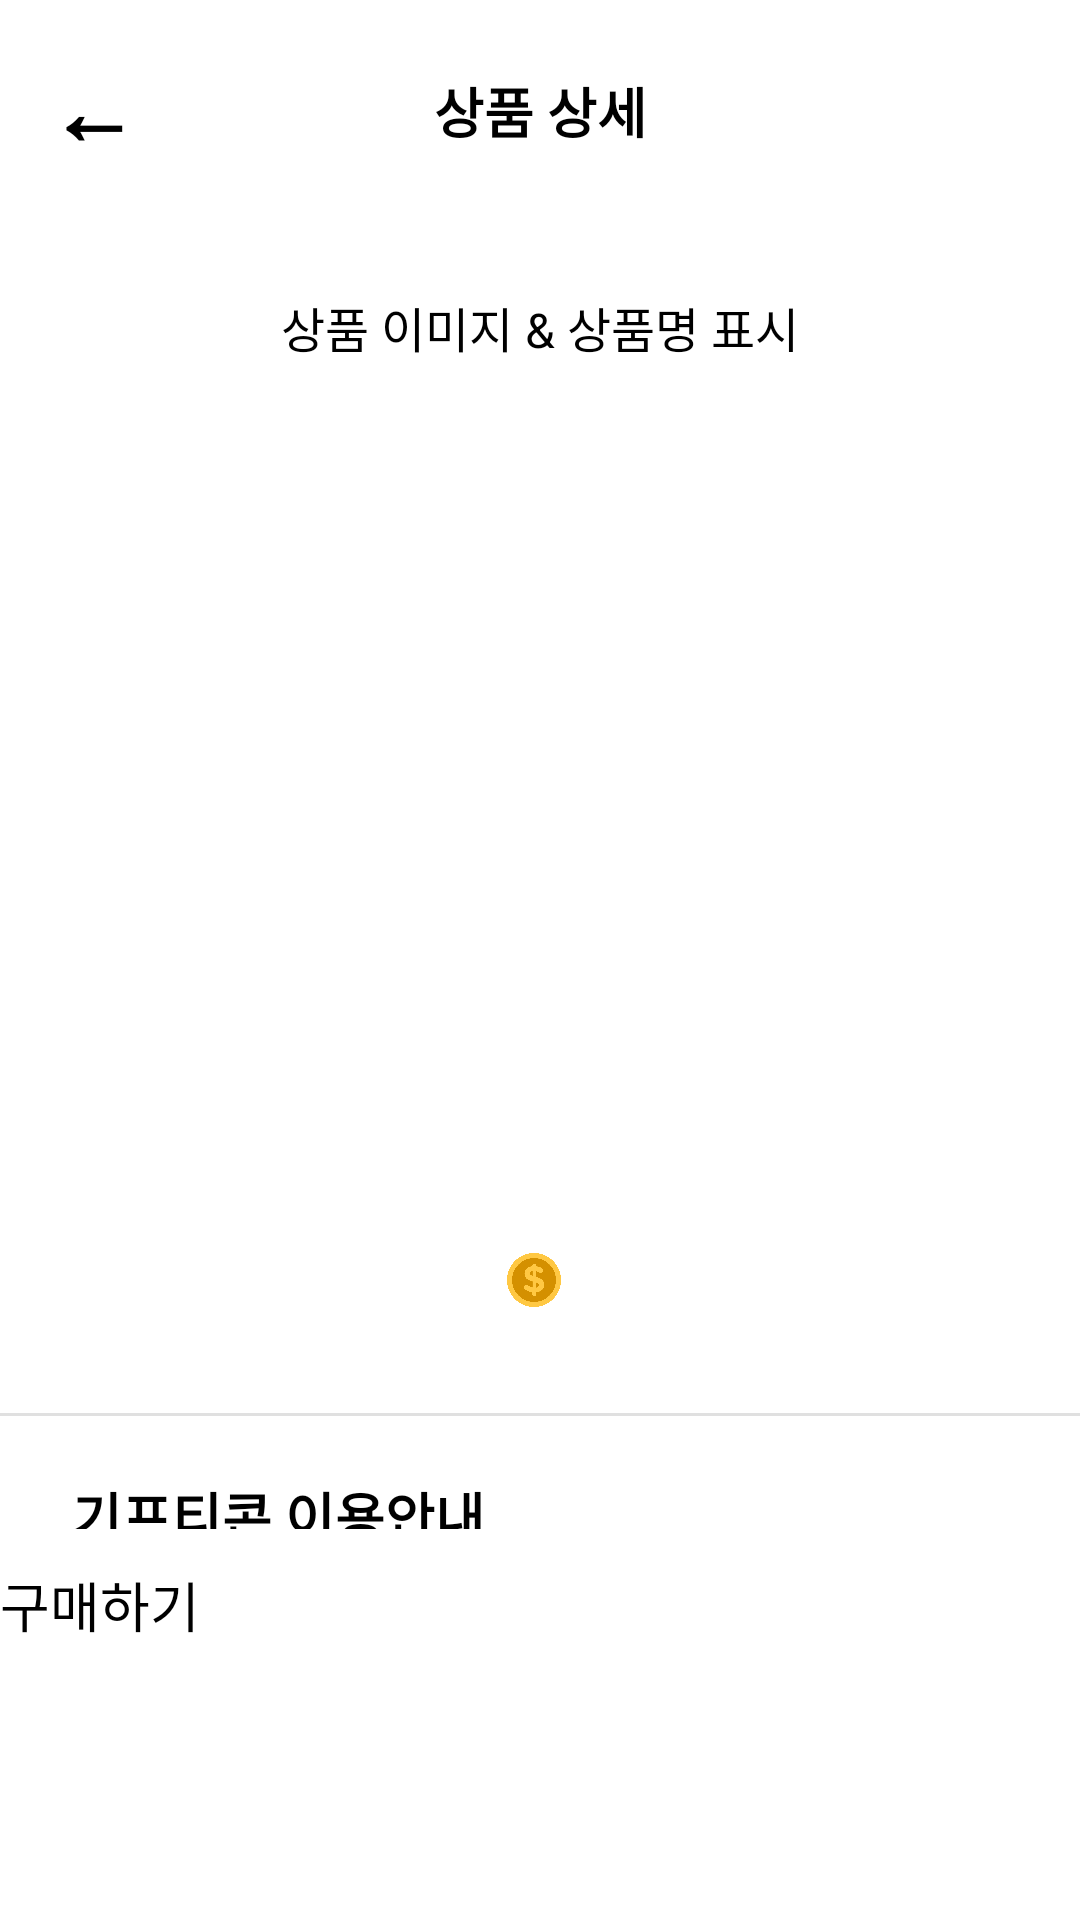

Screen size 1080×1920. Icon name, then its center in pixels as (x=x, y=y):
coin: (x=534, y=1280)
